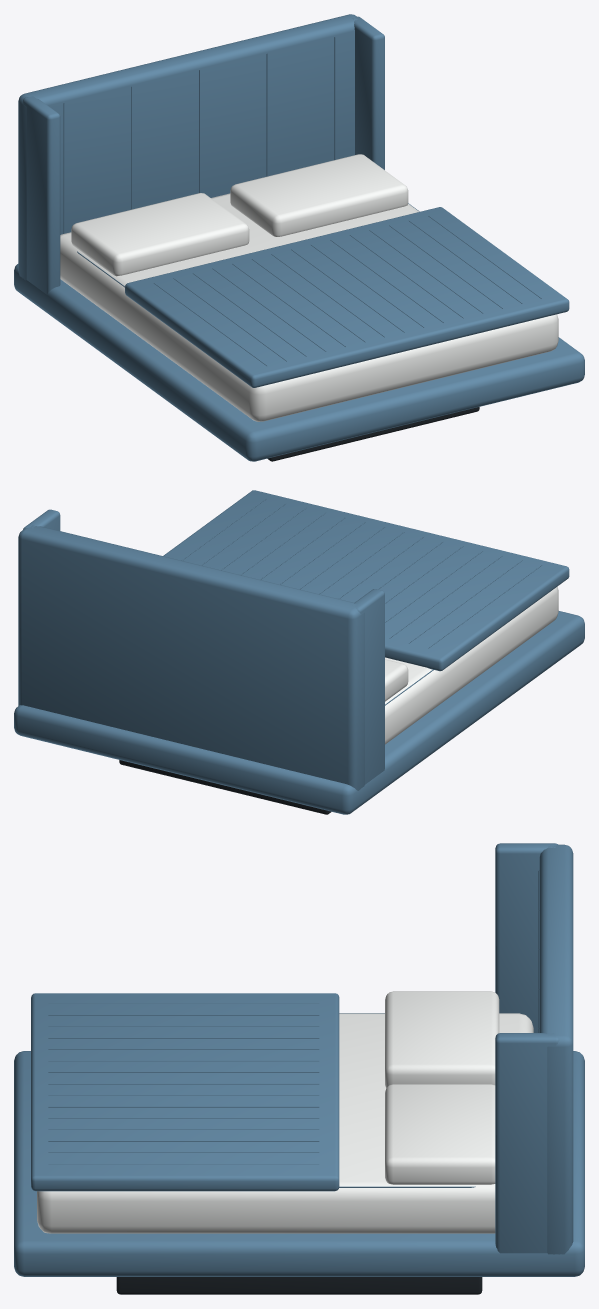
The model's file is wingback-bed.glb.
3 views of the same model, one above another, from view 1: azimuth 30°, elevation 25°; view 2: azimuth 150°, elevation 25°; view 3: azimuth 270°, elevation 25° (orthographic). The views are drawn at different scales.
Parts seen in each view (by area): view 1: wingback-bed; view 2: wingback-bed; view 3: wingback-bed.
Part boxes in pixels (left/top/right/bottom): wingback-bed: left=14, top=14, right=584, bottom=461; wingback-bed: left=14, top=490, right=584, bottom=814; wingback-bed: left=14, top=843, right=584, bottom=1294.
Size of the model in its own units: 1.8 by 1.25 by 2.2.
